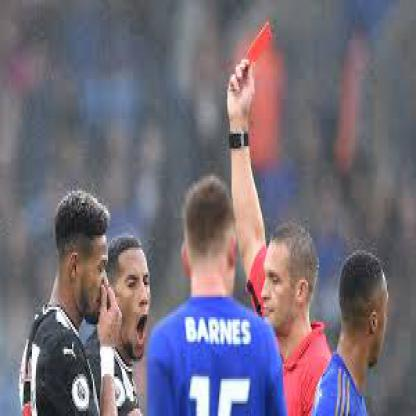foul: (217, 8, 294, 219)
